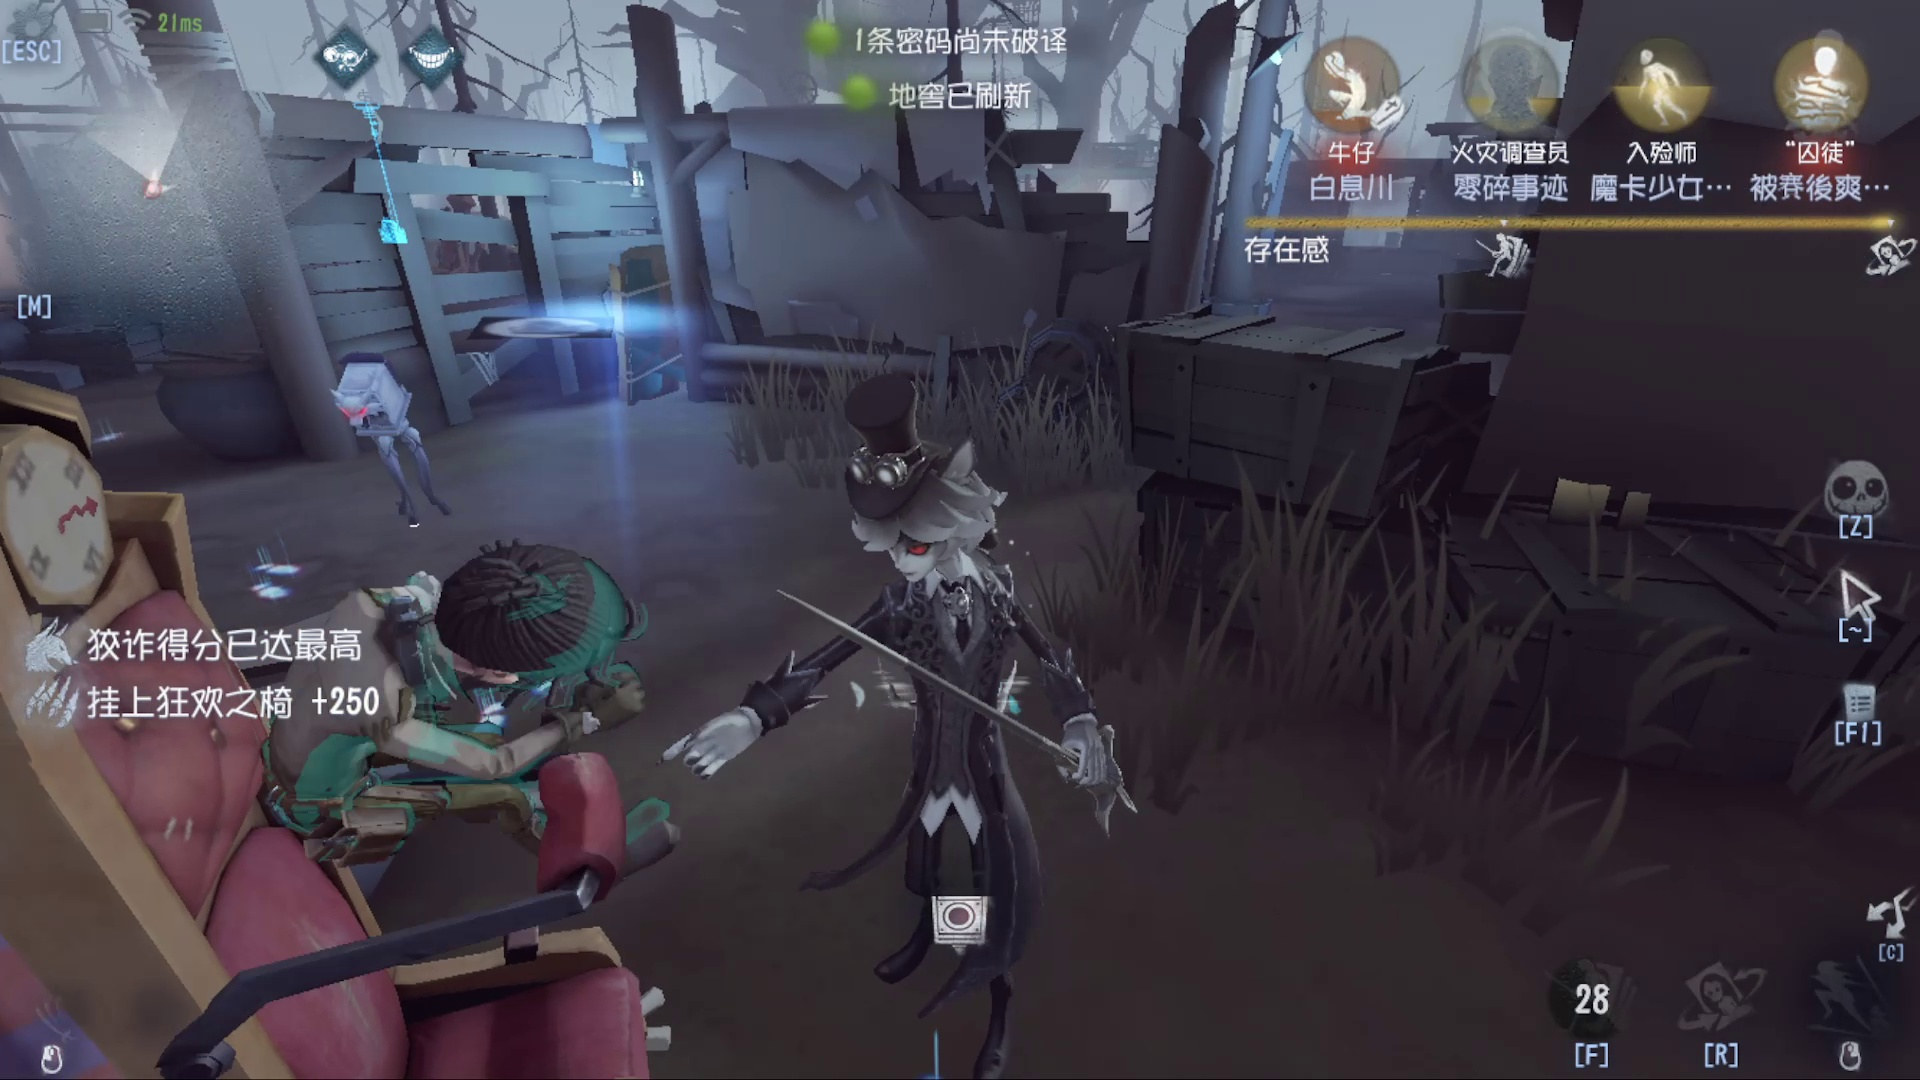木板: (596, 232, 698, 411)
求生者: (225, 558, 698, 877)
